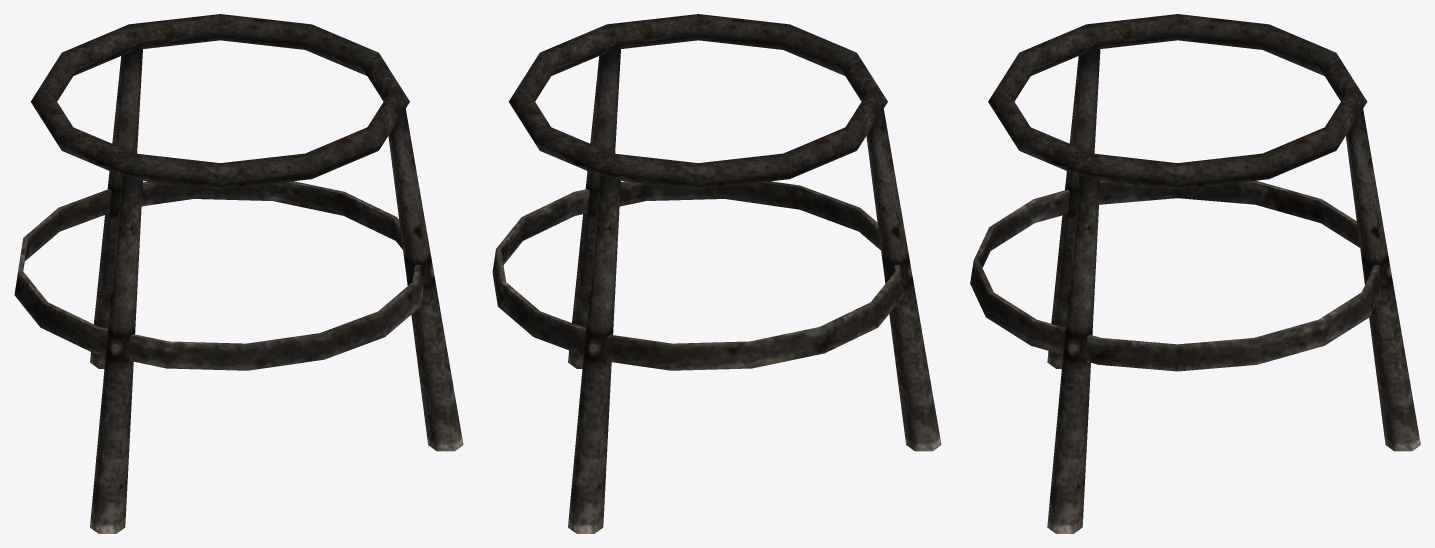
File: burner_tripod.dae
3 renders of one model, left to right at view 1: azimuth 30°, elevation 25°; view 2: azimuth 150°, elevation 25°; view 3: azimuth 270°, elevation 25°, orthographic.
Parts seen in each view (by area): view 1: polySurface8; view 2: polySurface8; view 3: polySurface8.
Boxes of the visible parts, box(x1,y1,x2,y2) form: polySurface8: box(14, 14, 463, 533); polySurface8: box(492, 14, 941, 533); polySurface8: box(970, 14, 1420, 533).
Bounding box in the file's own units: 0.2669 × 0.2473 × 0.2857.
